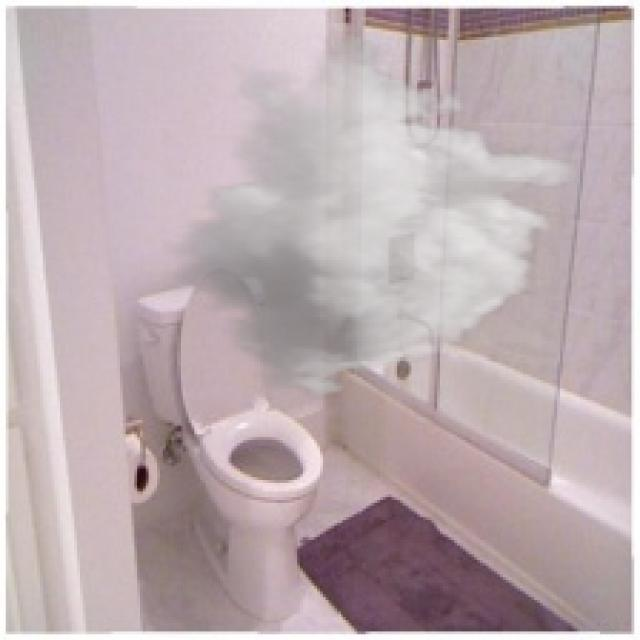Smoke: (163, 31, 583, 400)
